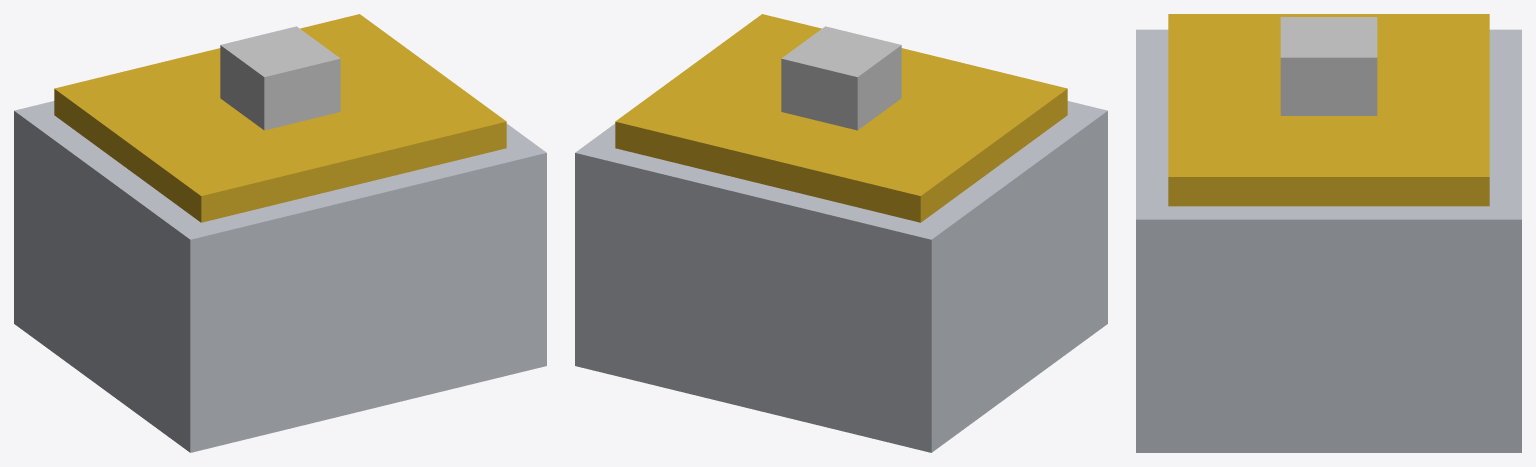
The model's file is precision_package.obj.
3 views of the same model, side by side, from view 1: azimuth 30°, elevation 25°; view 2: azimuth 150°, elevation 25°; view 3: azimuth 270°, elevation 25° (orthographic). The views are drawn at different scales.
Visible parts, largest first — view 1: precision_package; view 2: precision_package; view 3: precision_package.
Part boxes in pixels (bbox=[...]): precision_package: bbox=[14, 14, 546, 452]; precision_package: bbox=[575, 14, 1107, 452]; precision_package: bbox=[1136, 14, 1521, 452].
Bounding box in the file's own units: 0.28 × 0.22 × 0.24.
